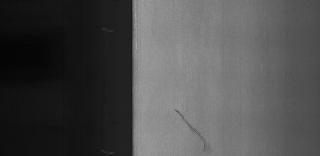water spot: (173, 104, 219, 154)
